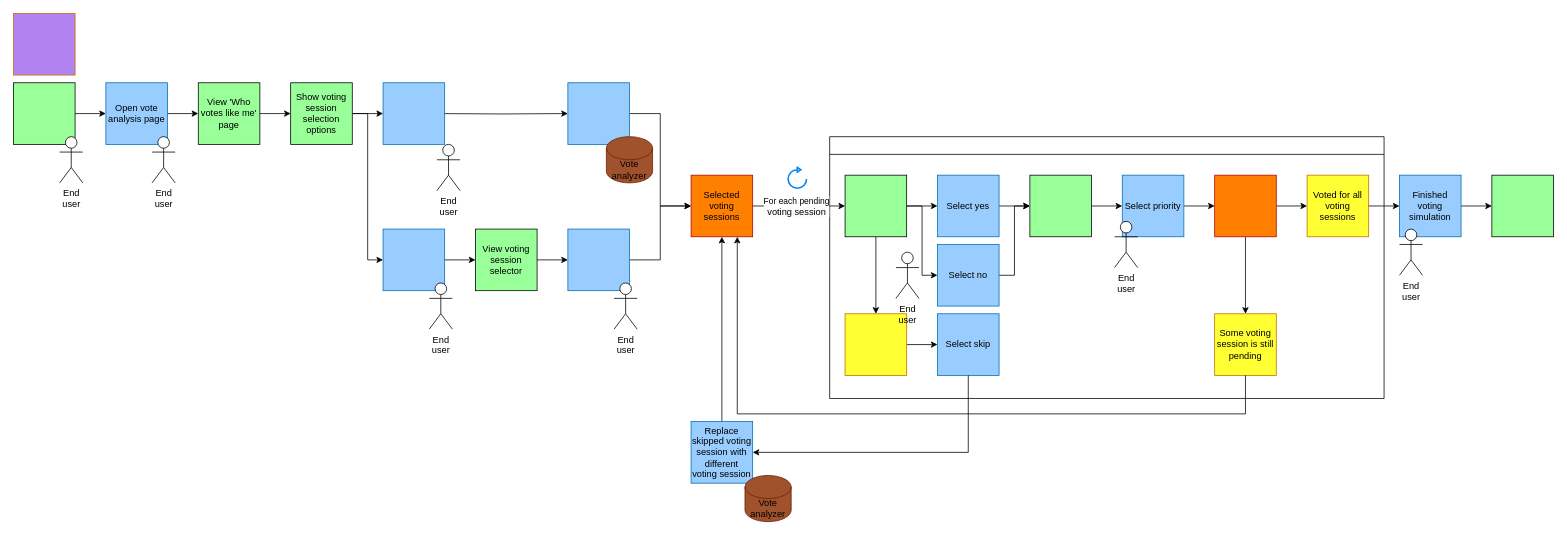
This 1567x535 diagram has some shape labels left out. The shapes that lost their labels are listed below. From the top down, each one's box as (x1, y1, x2, y2) in pixels, then its label:
(13, 13, 75, 75): Main page
(13, 82, 75, 144): View main page
(382, 82, 445, 144): Use auto-suggested voting sessions
(567, 82, 629, 144): Select trending voting sessions
(844, 174, 907, 237): View vote options for first pending voting session
(1029, 174, 1091, 237): View priority options
(1214, 174, 1276, 237): Vote is cast for voting session
(1491, 174, 1553, 237): Show results of analysis
(382, 228, 445, 291): Use user selected voting session
(567, 228, 629, 291): Select voting sessions
(829, 136, 1384, 398): User voting simulation
(844, 313, 907, 375): if voting session is auto-suggested
